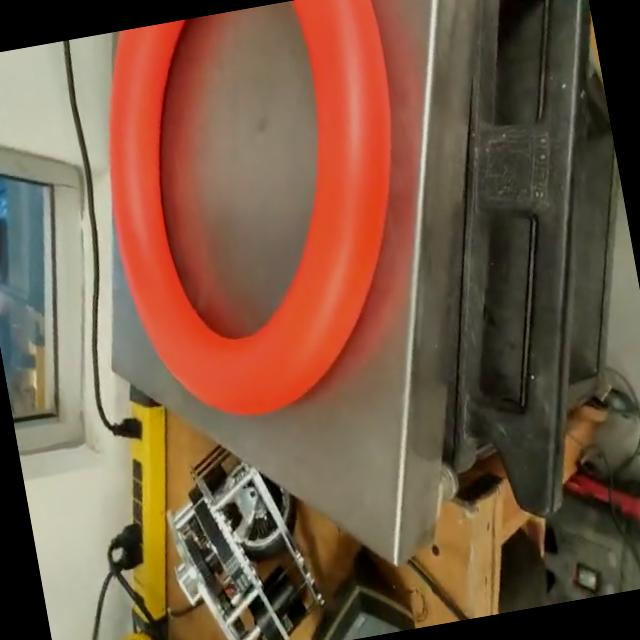note: (76, 0, 450, 437)
